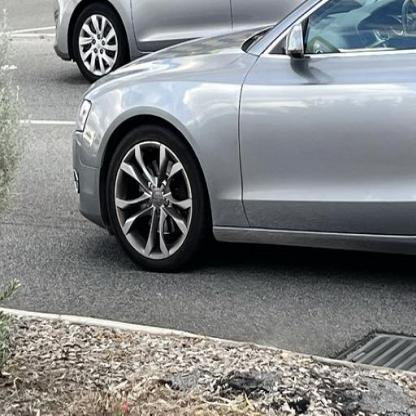Tire: (106, 126, 207, 273)
